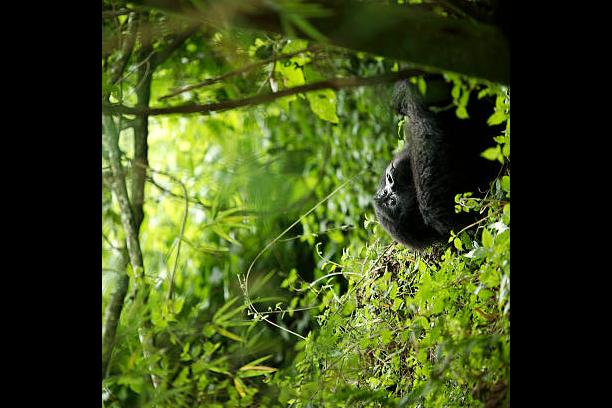goriile_montagne: (366, 71, 488, 257)
